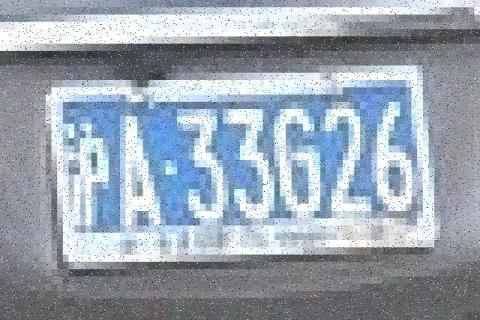LicensePlate: (30, 59, 448, 265)
